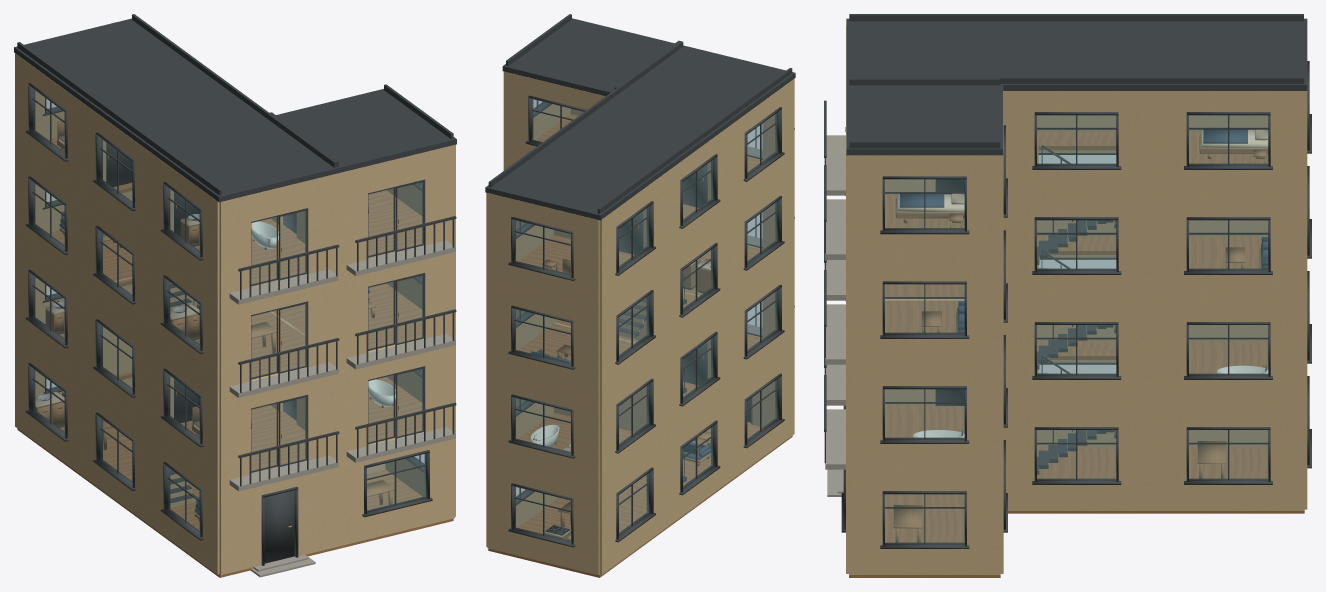
The model's file is bld-shophouse-lod-ccea3fa25941.glb.
3 renders of one model, left to right at view 1: azimuth 30°, elevation 25°; view 2: azimuth 150°, elevation 25°; view 3: azimuth 270°, elevation 25°, orthographic. The views are drawn at different scales.
Parts seen in each view (by area): view 1: surface_plaster, surface_graphite, surface_Optical_smoke, surface_oak, surface_stone, surface_porcelain, surface_terrazzo; view 2: surface_plaster, surface_graphite, surface_Optical_smoke, surface_oak, surface_denim, surface_porcelain; view 3: surface_plaster, surface_graphite, surface_Optical_smoke, surface_oak, surface_stone, surface_denim, surface_ivory, surface_porcelain.
Boxes of the visible parts, bbox=[...] form: surface_plaster: bbox=[15, 53, 455, 575]; surface_graphite: bbox=[14, 14, 456, 565]; surface_Optical_smoke: bbox=[33, 89, 425, 531]; surface_oak: bbox=[17, 120, 453, 577]; surface_stone: bbox=[229, 240, 455, 577]; surface_porcelain: bbox=[251, 221, 395, 406]; surface_terrazzo: bbox=[35, 218, 199, 408]; surface_plaster: bbox=[486, 71, 794, 575]; surface_graphite: bbox=[485, 14, 795, 547]; surface_Optical_smoke: bbox=[515, 99, 776, 541]; surface_oak: bbox=[488, 114, 792, 577]; surface_denim: bbox=[530, 349, 710, 460]; surface_porcelain: bbox=[530, 424, 559, 446]; surface_plaster: bbox=[846, 26, 1307, 574]; surface_graphite: bbox=[824, 14, 1311, 548]; surface_Optical_smoke: bbox=[885, 115, 1267, 543]; surface_oak: bbox=[849, 132, 1304, 577]; surface_stone: bbox=[825, 135, 845, 496]; surface_denim: bbox=[899, 129, 1268, 332]; surface_ivory: bbox=[897, 130, 1268, 211]; surface_porcelain: bbox=[913, 365, 1268, 437].
Bounding box in the file's own units: 8.39 × 12.66 × 12.85.
Materials: 14 (6 with a texture image).
